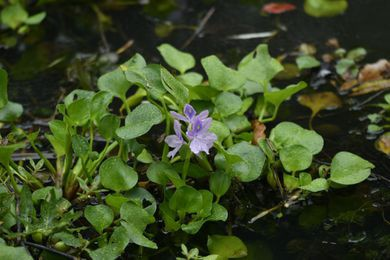water_hyacinth: (44, 33, 376, 235)
